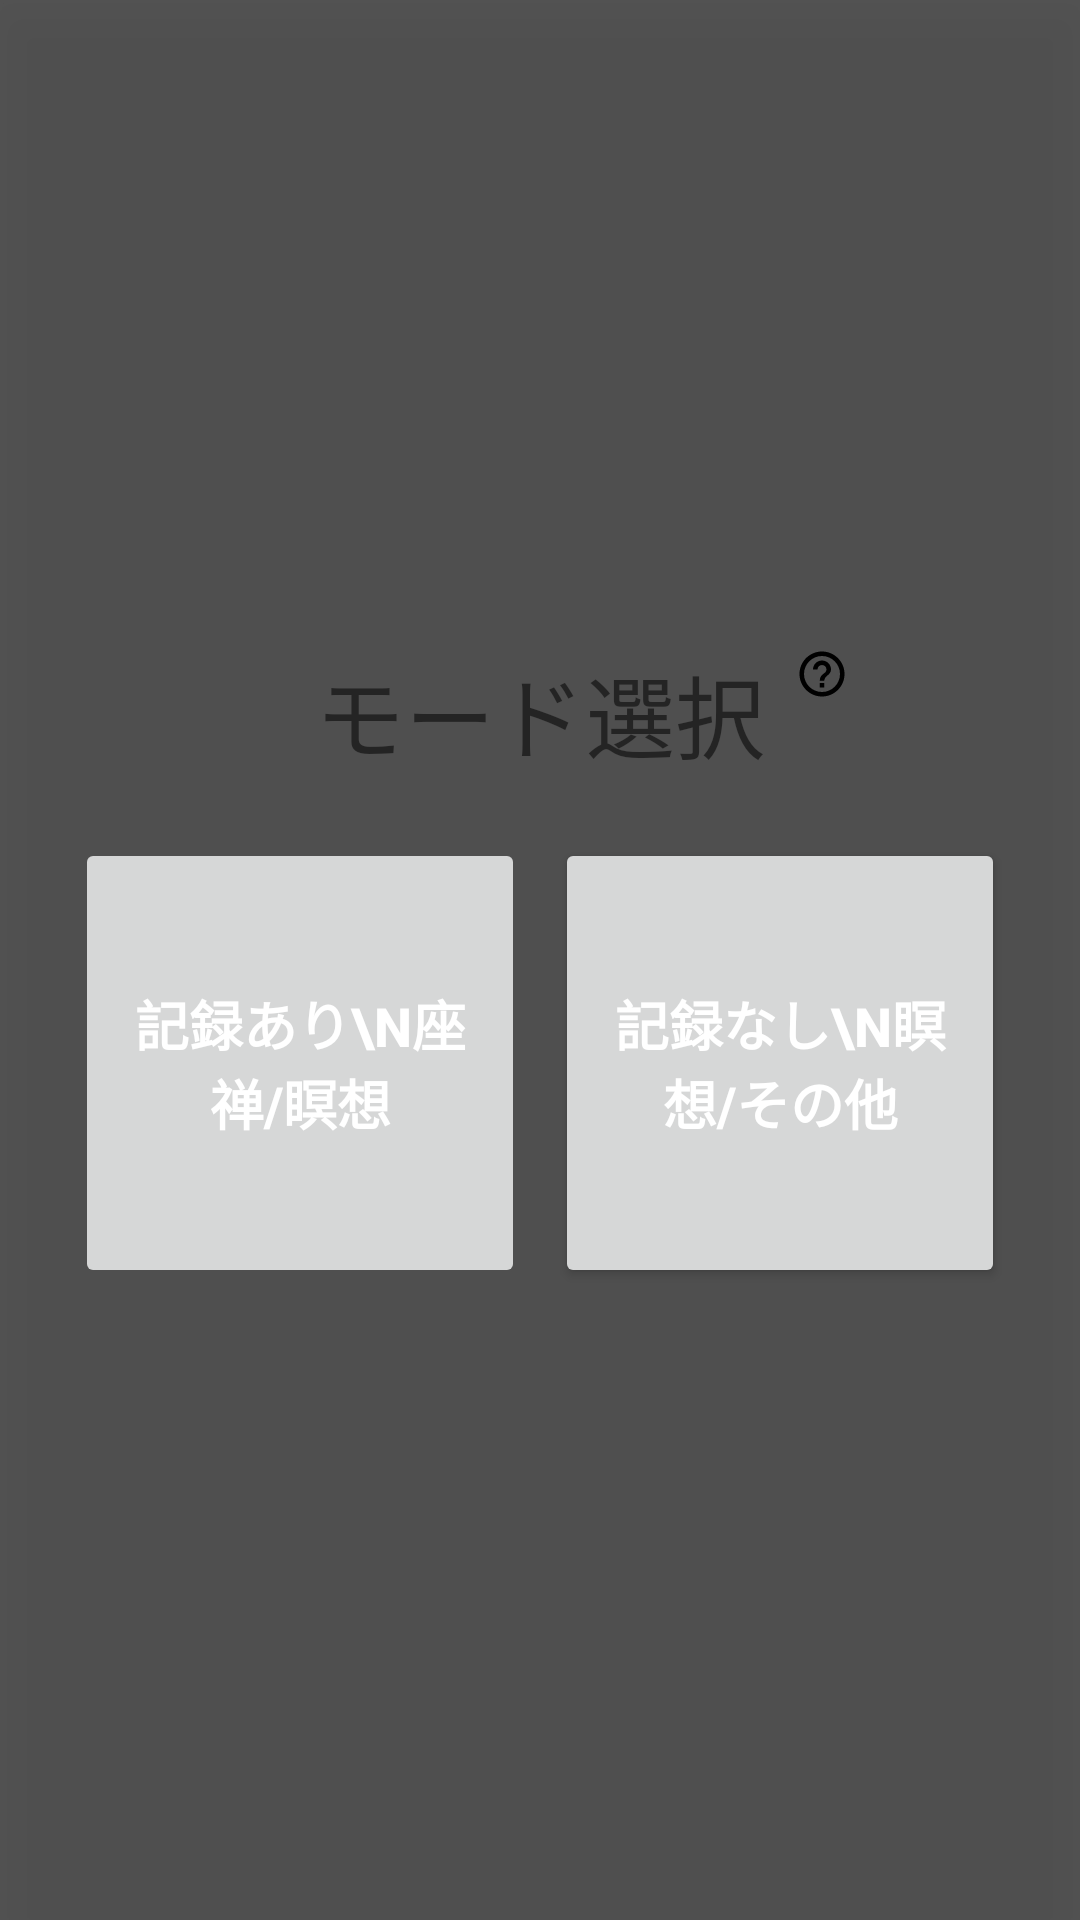

Icons on this 1080x1920 Android screen, each with its box as detection(x1, y1, x2, y2):
help: detection(799, 651, 845, 697)
